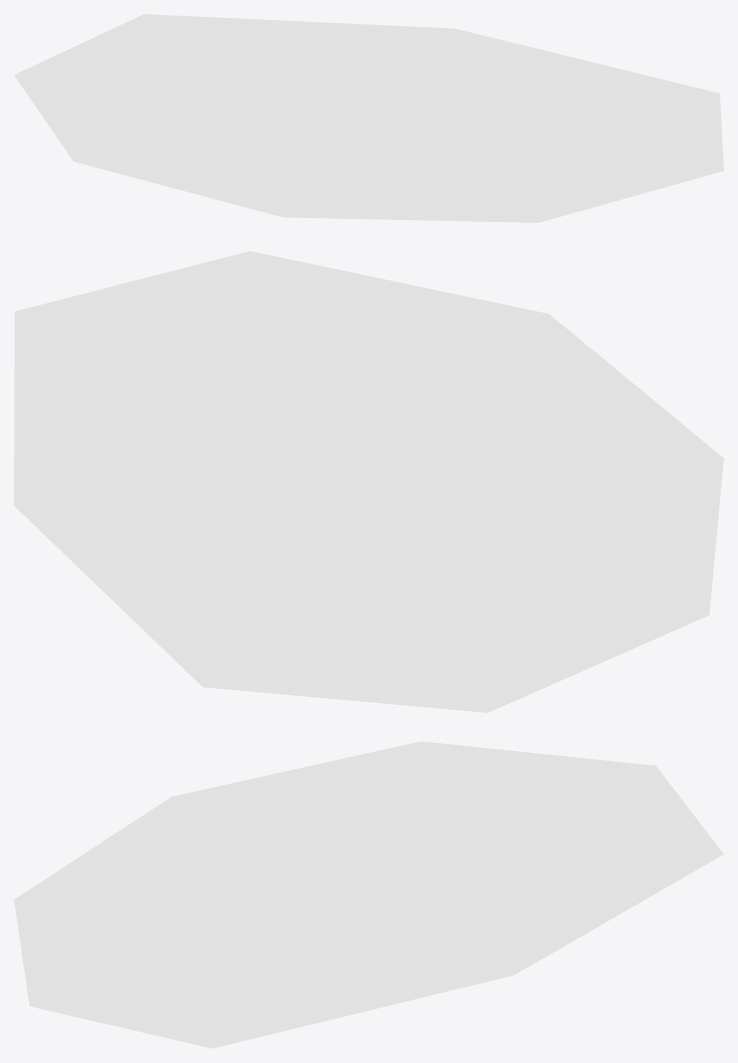
File: 01_petit_iceberg.glb
3 views of the same model, one above another, from view 1: azimuth 30°, elevation 25°; view 2: azimuth 150°, elevation 25°; view 3: azimuth 270°, elevation 25° (orthographic). The views are drawn at different scales.
Parts seen in each view (by area): view 1: 01_iceberg.petit; view 2: 01_iceberg.petit; view 3: 01_iceberg.petit.
Part boxes in pixels (box(x1,y1,x2,y2)): 01_iceberg.petit: box(14, 14, 723, 222); 01_iceberg.petit: box(14, 251, 723, 712); 01_iceberg.petit: box(14, 741, 723, 1048).
Bounding box in the file's own units: 2.33 × 0 × 2.27.
1 material, 1 textured.
